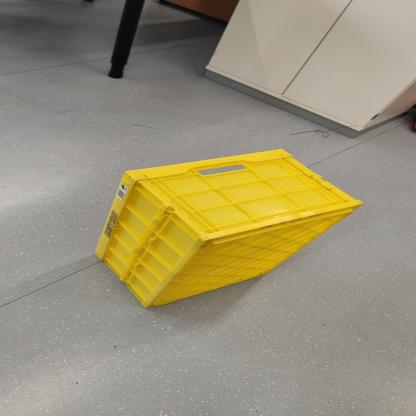box: (73, 127, 376, 330)
